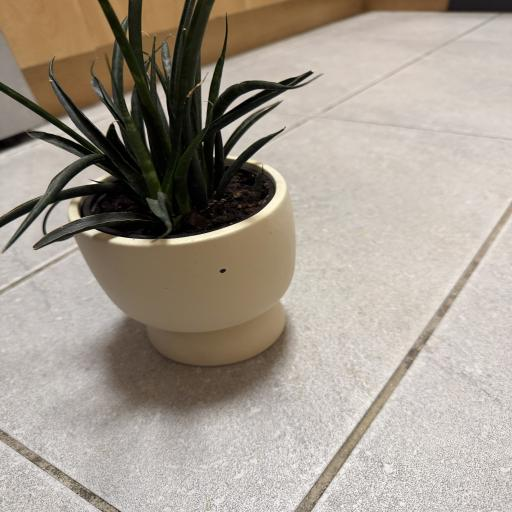Plant Pot: (66, 154, 302, 370)
